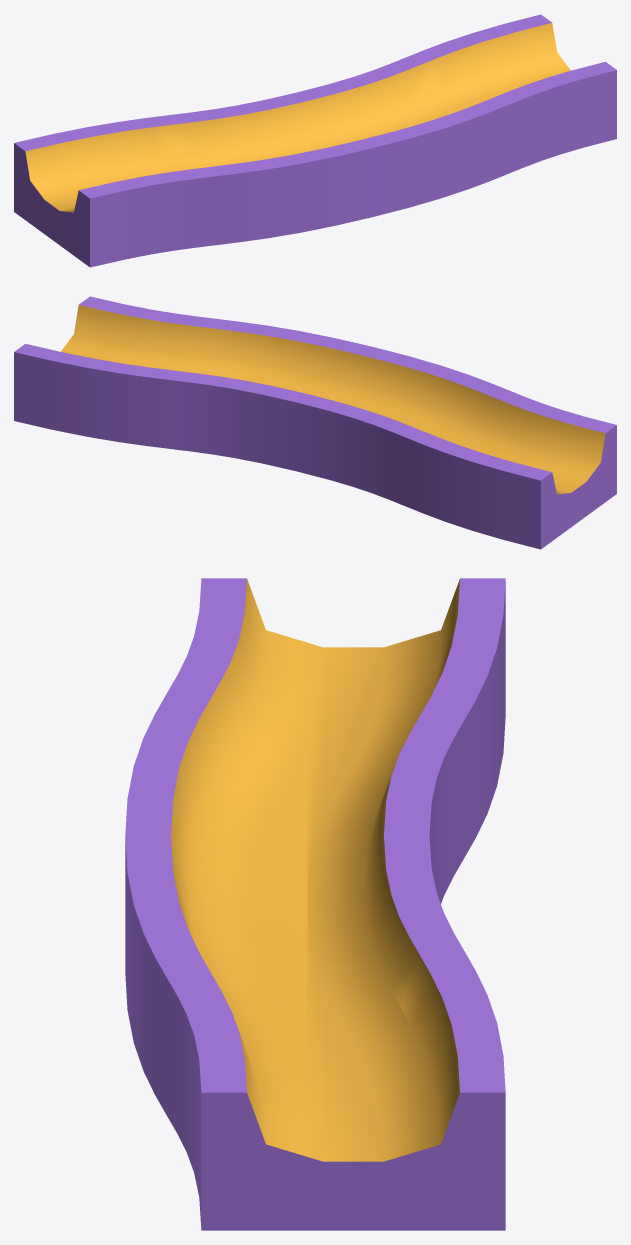
File: wave-a-col.glb
3 renders of one model, top to bottom at view 1: azimuth 30°, elevation 25°; view 2: azimuth 150°, elevation 25°; view 3: azimuth 270°, elevation 25°, orthographic. The views are drawn at different scales.
Visible parts, largest first — view 1: wave-a-col; view 2: wave-a-col; view 3: wave-a-col.
Boxes of the visible parts, x1,y1,x2,y2 form: wave-a-col: (14,14,616,267); wave-a-col: (14,296,616,549); wave-a-col: (125,578,505,1230).
Size of the model in its own units: 4 by 0.5 by 1.25.
1 material, 1 textured.
